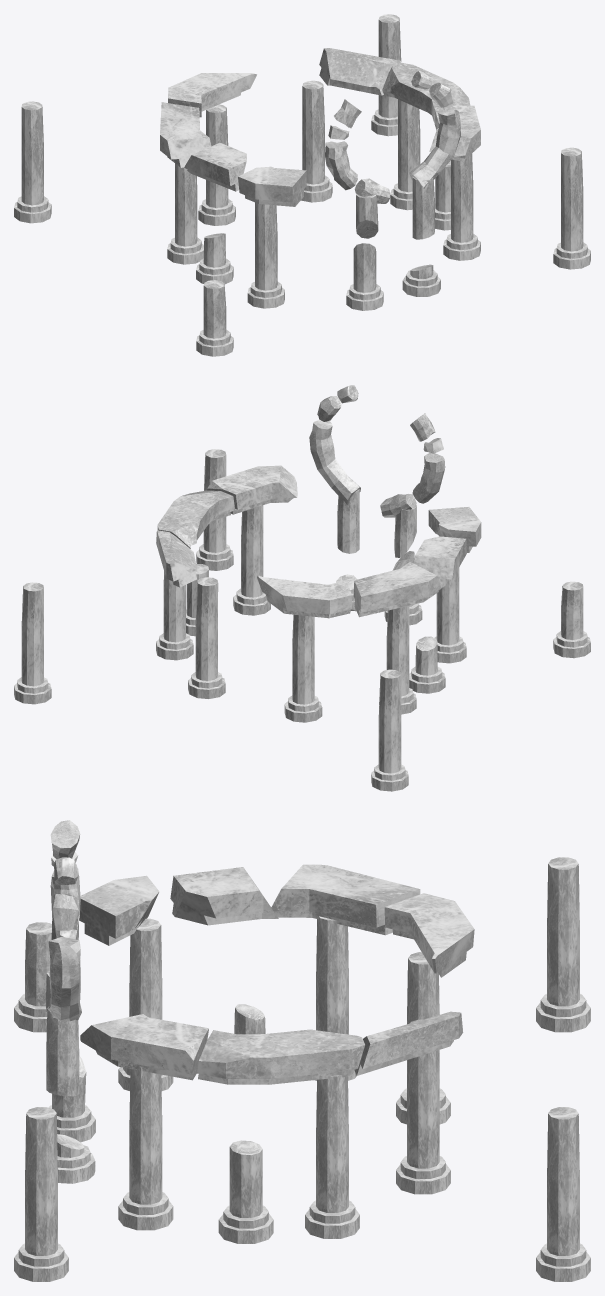
The model's file is RUINS.fbx.
3 views of the same model, one above another, from view 1: azimuth 30°, elevation 25°; view 2: azimuth 150°, elevation 25°; view 3: azimuth 270°, elevation 25° (orthographic). The views are drawn at different scales.
Parts seen in each view (by area): view 1: Cube.227_cell.002; view 2: Cube.227_cell.002; view 3: Cube.227_cell.002.
Part boxes in pixels (x1,y1,x2,y2): Cube.227_cell.002: [14, 14, 590, 356]; Cube.227_cell.002: [14, 385, 590, 791]; Cube.227_cell.002: [14, 820, 590, 1281].
Size of the model in its own units: 11201 by 6028 by 10047.
